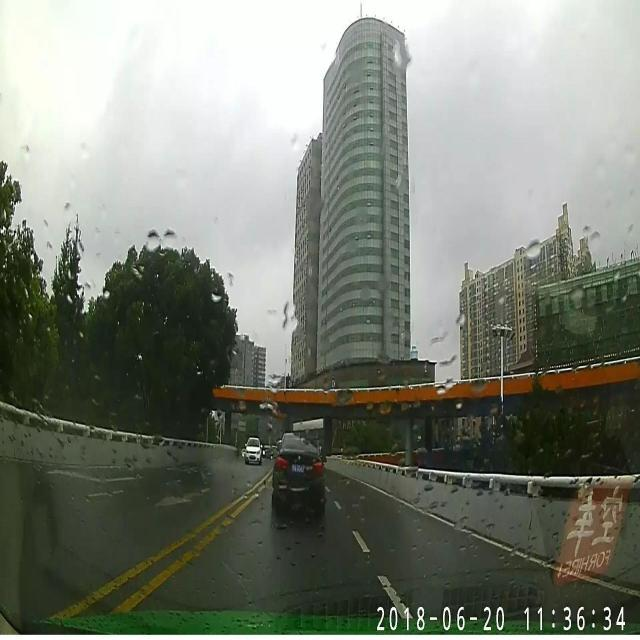car: (271, 433, 327, 518), (245, 434, 262, 462)
